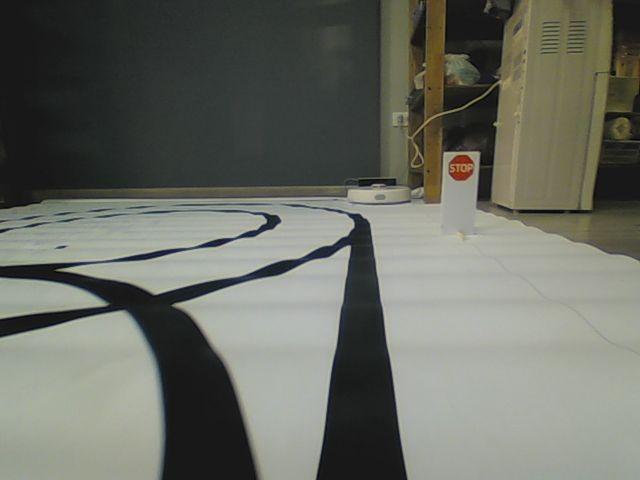Stop: (446, 154, 476, 183)
